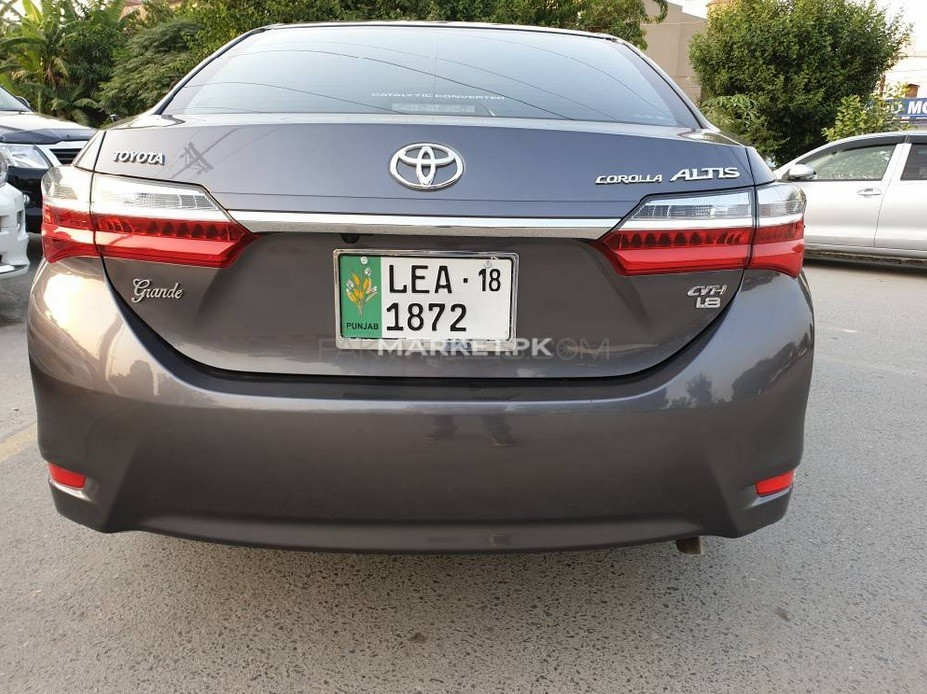License-Plate: (327, 246, 519, 355)
